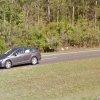Car: (1, 40, 47, 71)
